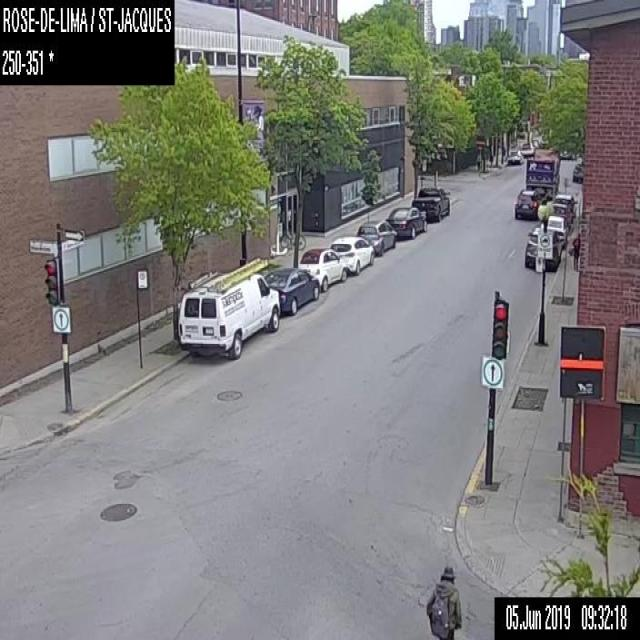pedestrian: (423, 564, 462, 639), (572, 234, 579, 274)
vehicle: (175, 258, 279, 360), (260, 266, 321, 317), (297, 247, 349, 289), (524, 225, 562, 270), (524, 148, 558, 198), (330, 234, 374, 272), (410, 185, 451, 219), (386, 205, 427, 239), (356, 220, 396, 254), (513, 187, 549, 217), (542, 213, 567, 244), (555, 192, 575, 220), (552, 201, 568, 225), (506, 149, 523, 163), (520, 140, 534, 155), (559, 148, 575, 160), (572, 163, 581, 181), (544, 231, 546, 232)
